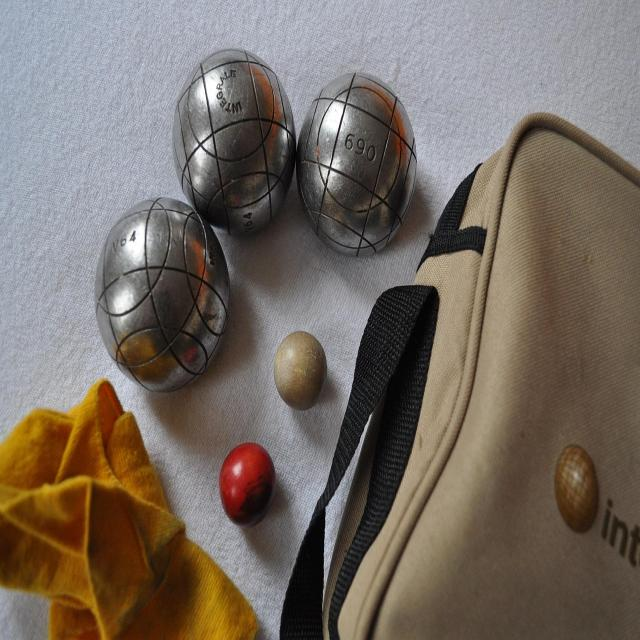hatball: (215, 441, 278, 534)
petanque: (98, 196, 229, 395), (170, 47, 300, 238), (294, 70, 420, 264), (270, 331, 330, 413)
